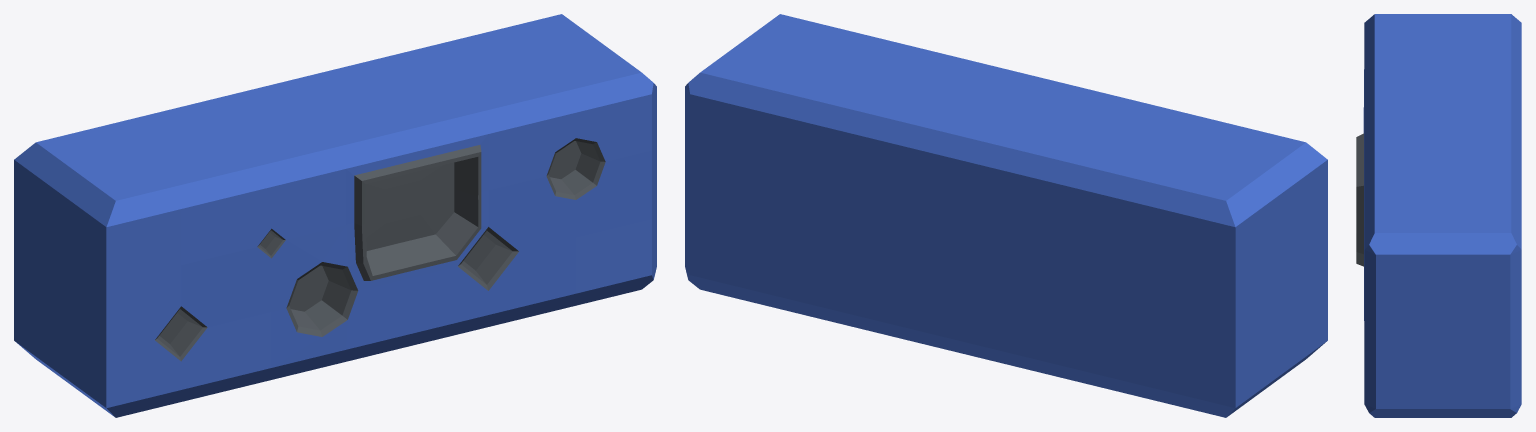
Rendered from Dropship_02_Bumper_Blue.fbx.
3 renders of one model, left to right at view 1: azimuth 30°, elevation 25°; view 2: azimuth 150°, elevation 25°; view 3: azimuth 270°, elevation 25°, orthographic. The views are drawn at different scales.
Parts seen in each view (by area): view 1: Dropship_02_Bumper_Blue; view 2: Dropship_02_Bumper_Blue; view 3: Dropship_02_Bumper_Blue.
Part boxes in pixels (box(x1,y1,x2,y2)): Dropship_02_Bumper_Blue: box(14, 14, 656, 417); Dropship_02_Bumper_Blue: box(685, 14, 1327, 417); Dropship_02_Bumper_Blue: box(1356, 14, 1521, 417).
Size of the model in its own units: 524 by 195 by 158.
Materials: 1 (1 with a texture image).
